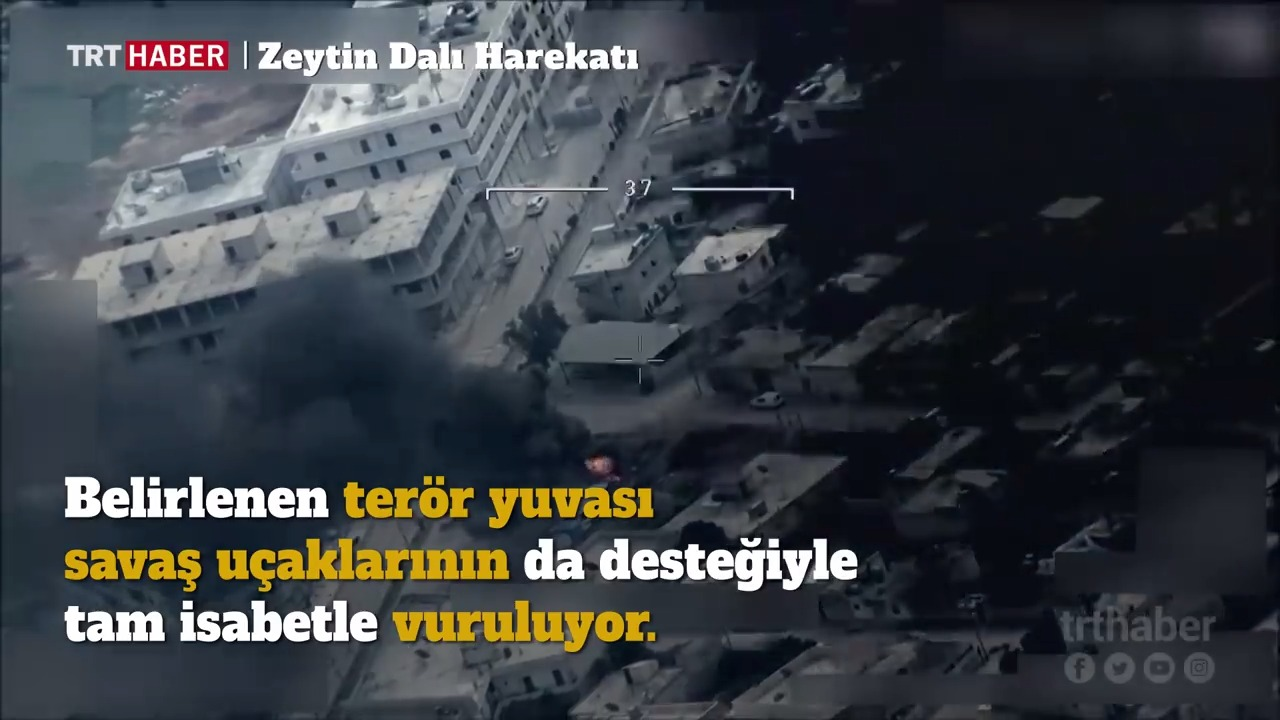arac: (743, 386, 793, 413)
